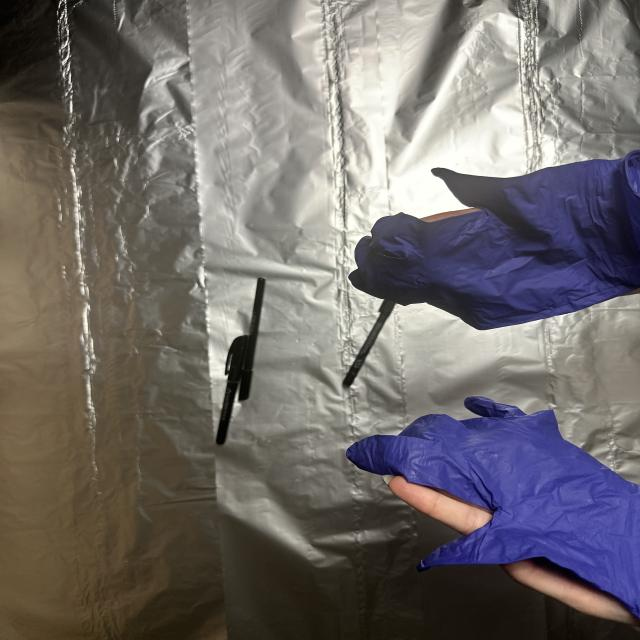glove_not_fitted: (340, 393, 640, 636), (352, 152, 640, 336)
